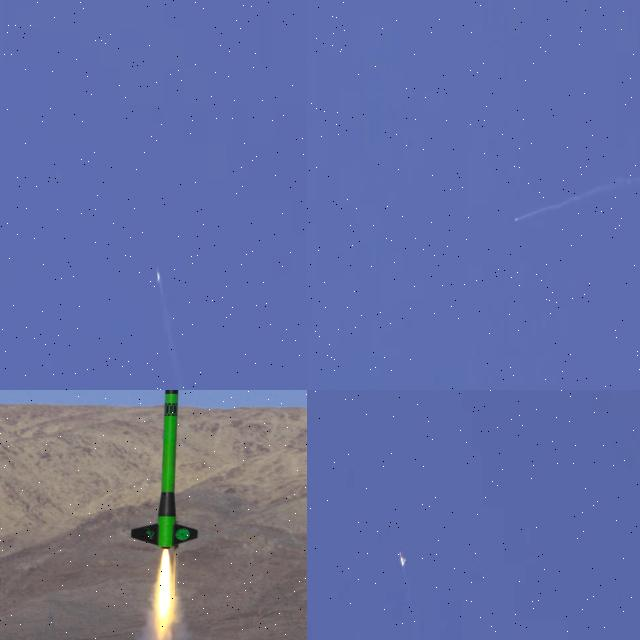Rocket: (129, 390, 199, 549), (399, 552, 406, 567), (157, 272, 160, 281), (515, 219, 516, 221)
